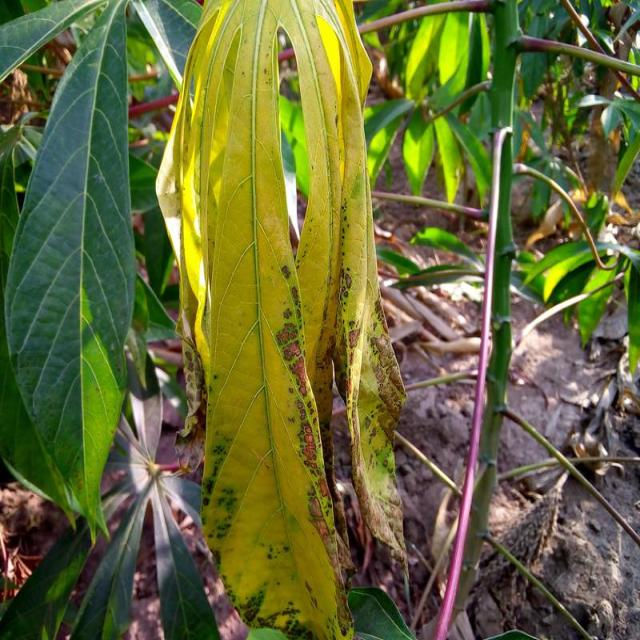cassava leaf: (154, 0, 408, 638), (2, 0, 136, 546)
